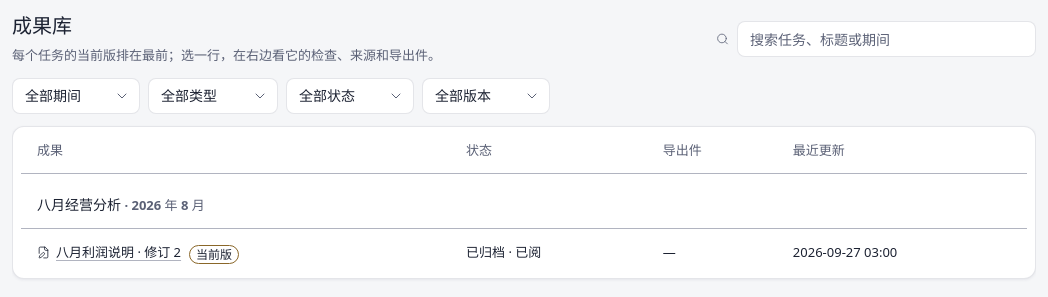
Test: the 成果库 list › keeps a revision already read (已阅) out of 待复核
The image size is (1048, 297).
Select "待复核" in the dropdown named "文稿状态" at (350, 96), box [286, 78, 414, 114]
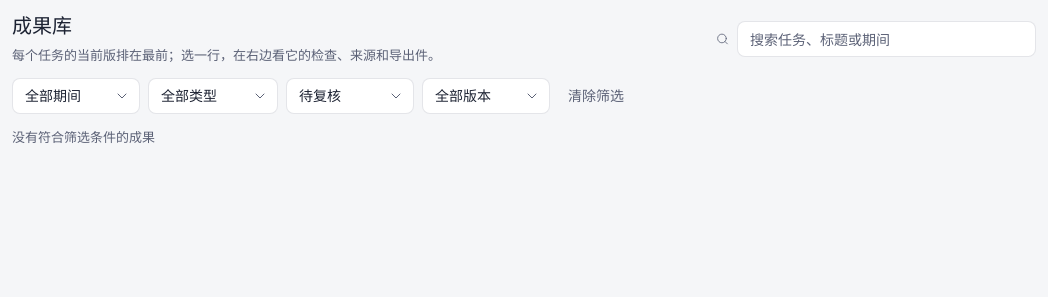
Expected: the button "八月利润说明 · 修订 2" is gone
Select "已阅" in the dropdown named "文稿状态" at (350, 96), box [286, 78, 414, 114]
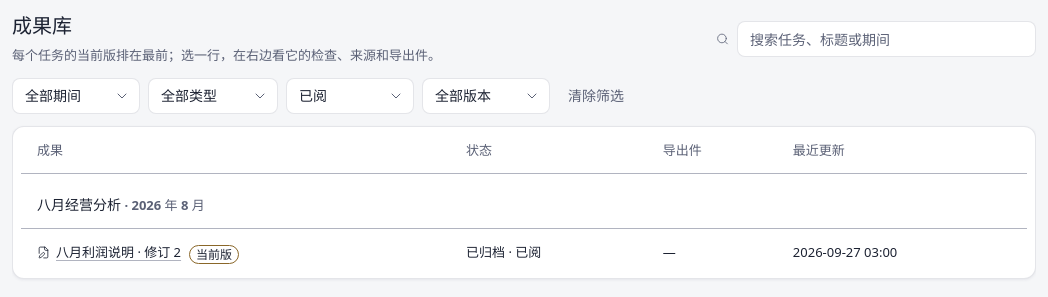
Expected: the button "八月利润说明 · 修订 2" is shown, [37, 241, 181, 263]
